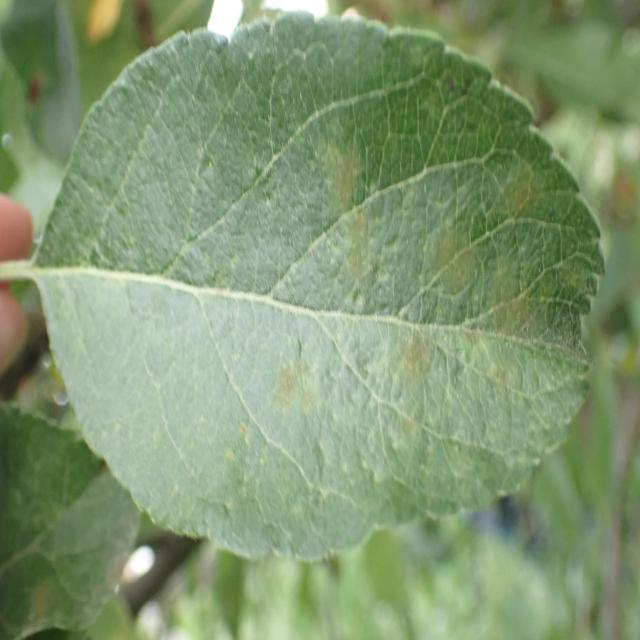scab: (49, 60, 590, 543)
